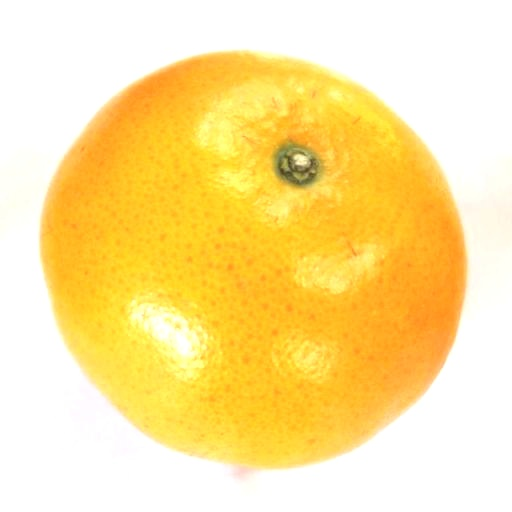fruit: (41, 52, 465, 467)
